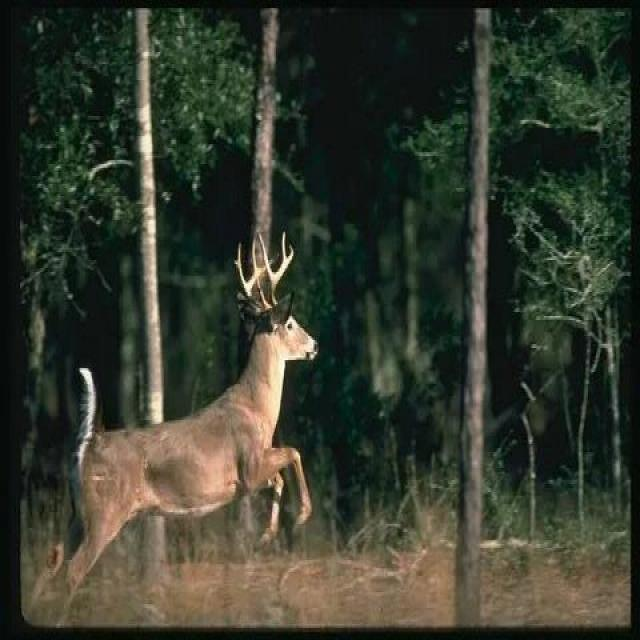deer: (42, 270, 338, 634)
